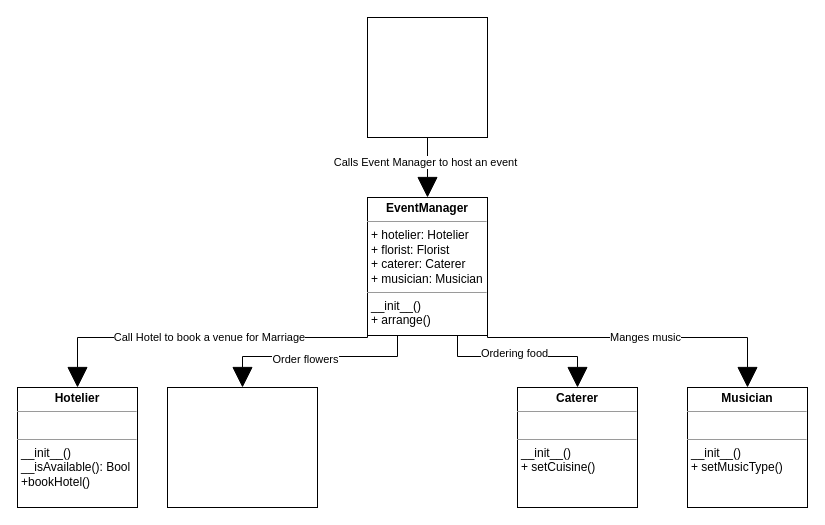
This 825x525 diagram has some shape labels left out. Each missing label, with the centre of its shape:
"Client __init__() + askEventManager() __del__()" belongs at point 427,77.
"Florist __init__() + setFlowerRequirements()" belongs at point 242,447.
